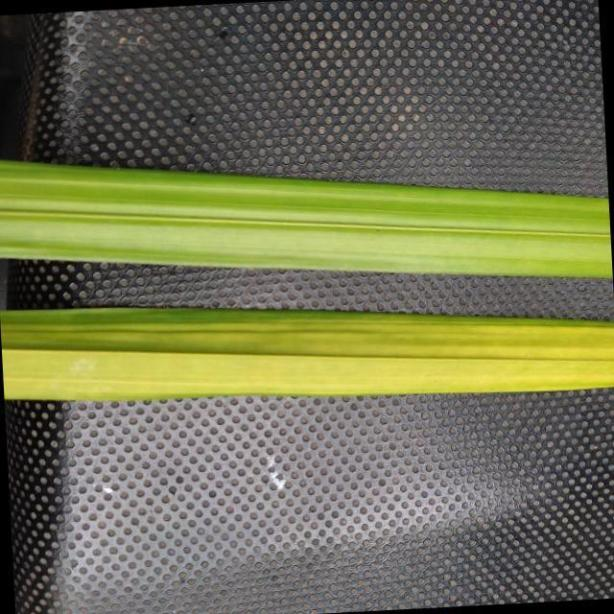nitrogen: (0, 150, 614, 283), (5, 296, 614, 400)
